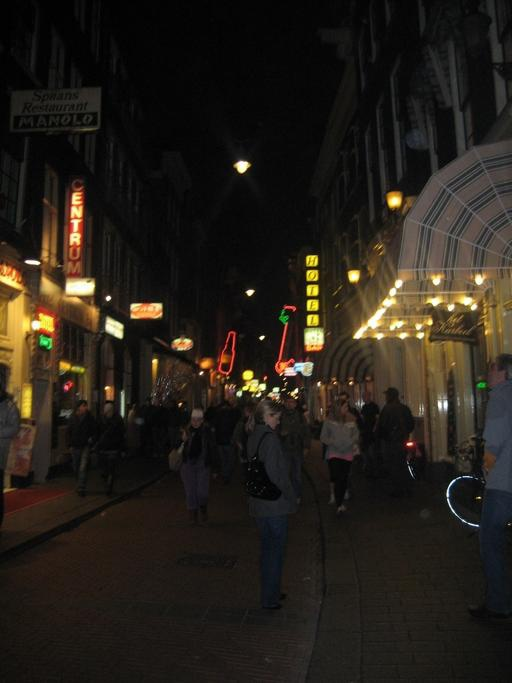non-vehicle: (445, 432, 489, 527), (402, 439, 421, 480)
